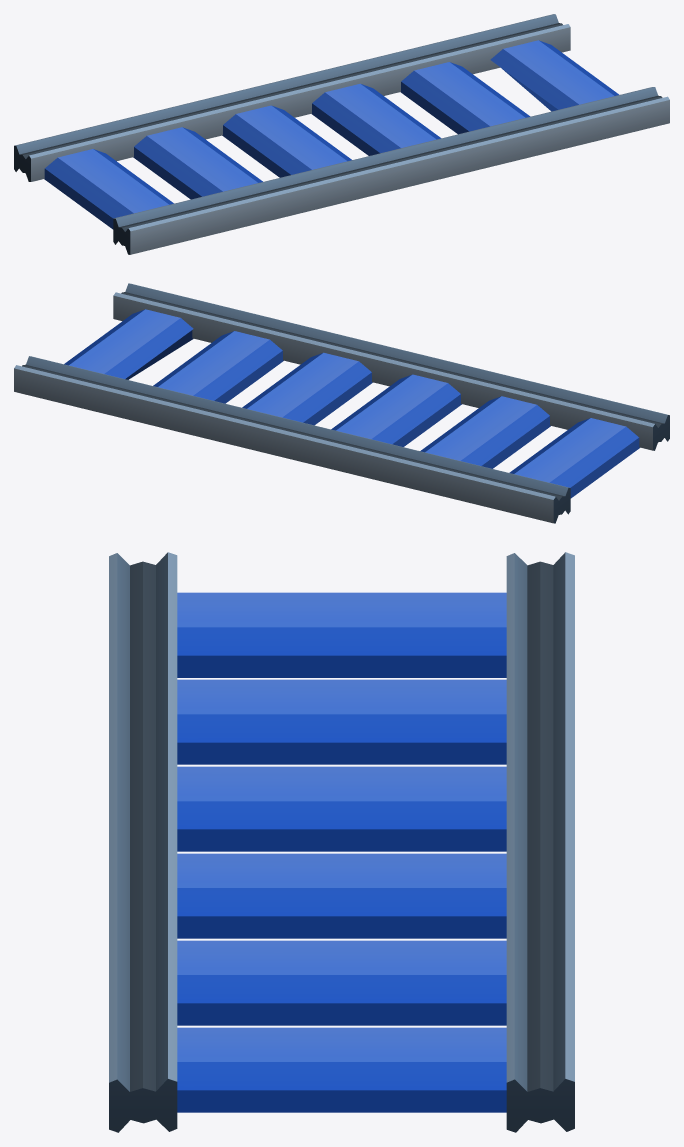
Rendered from 2Br-DuzRay.fbx.
The picture shows the model from 3 angles, top to bottom: view 1: azimuth 30°, elevation 25°; view 2: azimuth 150°, elevation 25°; view 3: azimuth 270°, elevation 25°; orthographic projection. The views are drawn at different scales.
Visible parts, largest first — view 1: civisiz.010; view 2: civisiz.010; view 3: civisiz.010.
Part boxes in pixels (x1=…): civisiz.010: x1=14, y1=14, x2=669, y2=254; civisiz.010: x1=14, y1=283, x2=669, y2=523; civisiz.010: x1=109, y1=552, x2=574, y2=1132.
Bounding box in the file's own units: 400 × 19.17 × 150.
